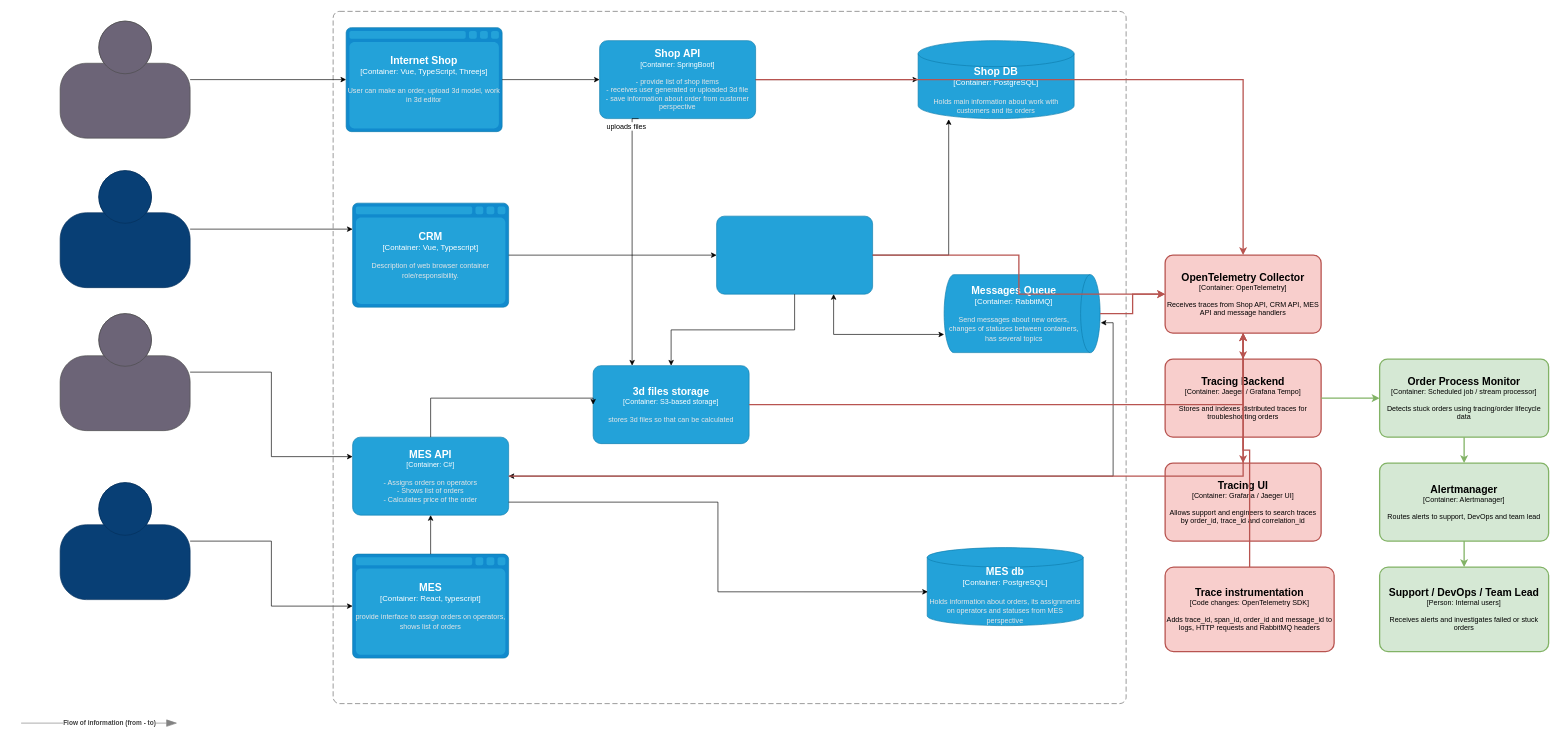
This 1561x745 diagram has some shape labels left out. Each missing label, with the box of its shape:
API user [Person] Description of external person.: (59, 313, 190, 431)
CRM API [Container: SpringBoot] Description of container role/responsibility.: (716, 215, 873, 294)
Customer [Person] Description of external person.: (59, 20, 190, 138)
Jewerly Store System [Software System]: (332, 11, 1126, 704)
Operator [Person] Takes order in work, manufactures jewerly: (59, 482, 190, 600)
Seller [Person] Operates with order, confirms manufacturing for the user: (59, 170, 190, 288)
